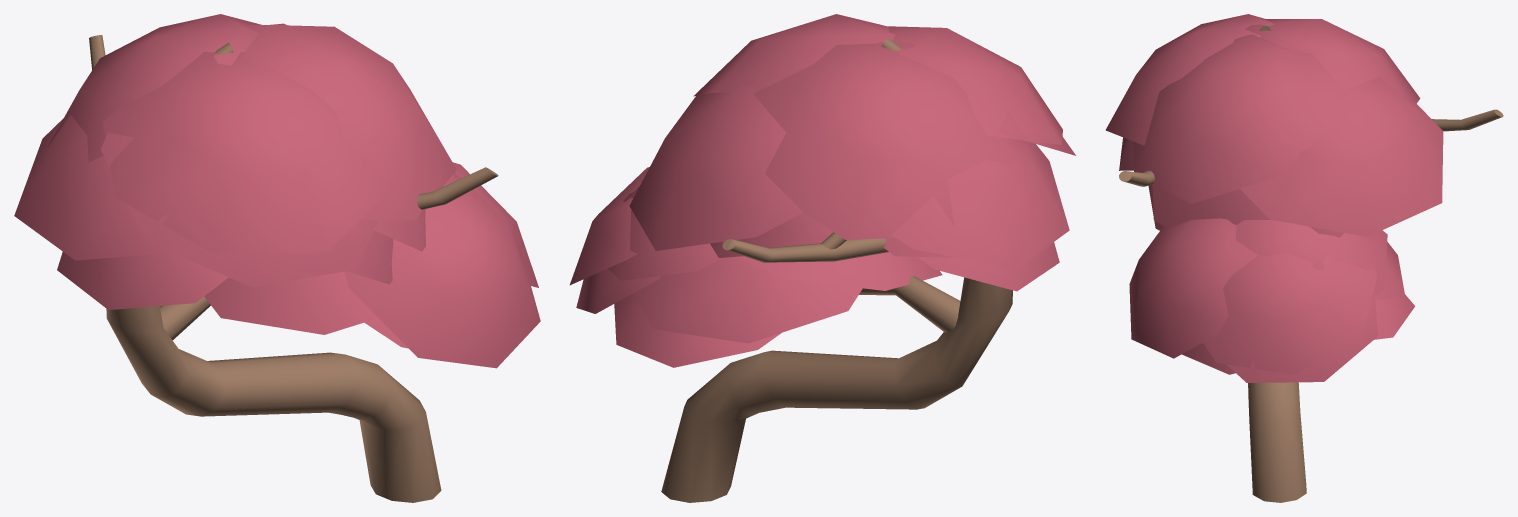
File: Tree_10.glb
The picture shows the model from 3 angles, left to right: view 1: azimuth 30°, elevation 25°; view 2: azimuth 150°, elevation 25°; view 3: azimuth 270°, elevation 25°; orthographic projection. The views are drawn at different scales.
Parts seen in each view (by area): view 1: Tree_10; view 2: Tree_10; view 3: Tree_10.
Boxes of the visible parts, x1,y1,x2,y2 form: Tree_10: (14, 14, 540, 502); Tree_10: (570, 14, 1075, 502); Tree_10: (1105, 14, 1503, 502).
Size of the model in its own units: 4.28 by 4.35 by 3.98.
